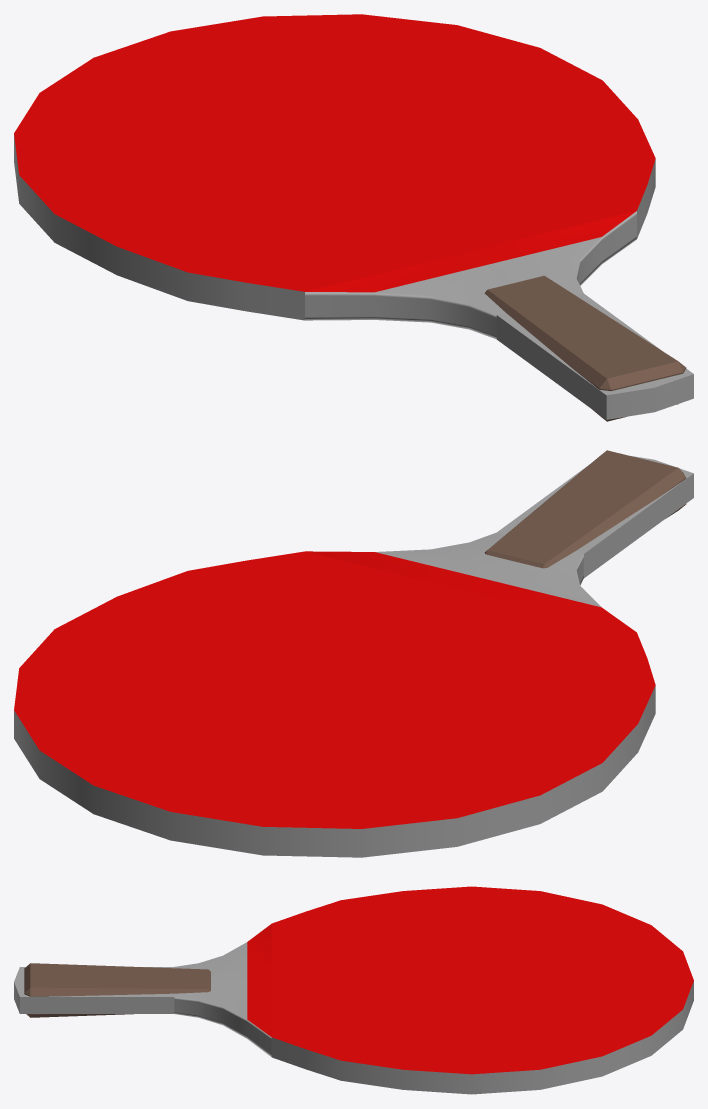
File: TennisRacket.fbx
3 renders of one model, top to bottom at view 1: azimuth 30°, elevation 25°; view 2: azimuth 150°, elevation 25°; view 3: azimuth 270°, elevation 25°, orthographic. The views are drawn at different scales.
Parts seen in each view (by area): view 1: TenisRacket; view 2: TenisRacket; view 3: TenisRacket.
Part boxes in pixels (x1,y1,x2,y2): TenisRacket: (14,14,693,421); TenisRacket: (14,450,693,857); TenisRacket: (14,886,693,1094).
Size of the model in its own units: 140 by 10.48 by 214.
